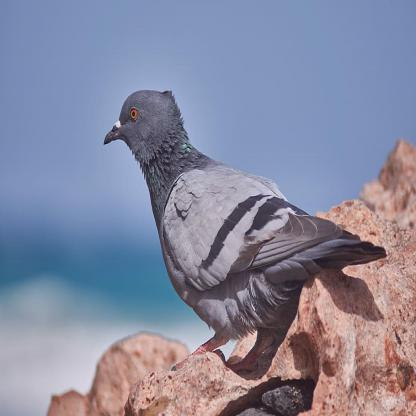Rock Pigeon: (102, 88, 339, 307)
